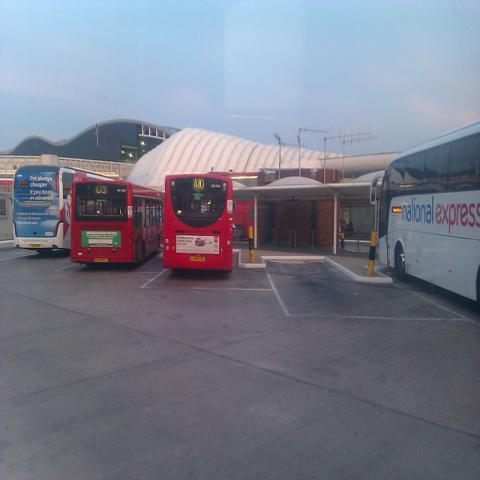bus: (373, 122, 479, 310), (9, 162, 127, 255), (70, 179, 164, 268), (165, 176, 235, 272)
